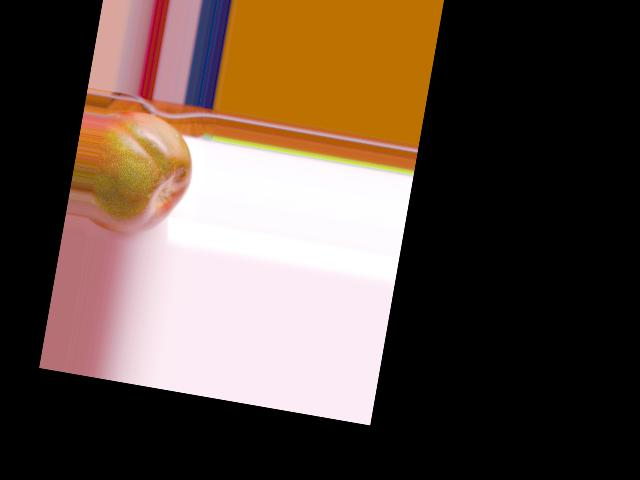tomato: (86, 106, 200, 242)
